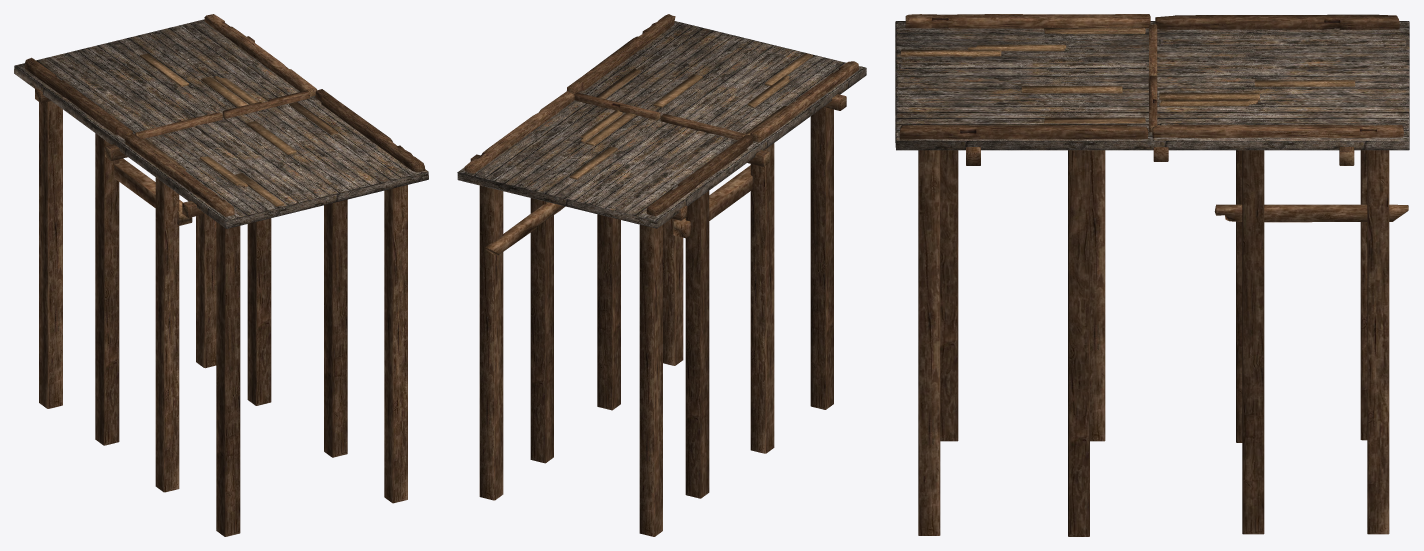
File: o_mdl_env_buildingDockWoodStraightA_c-transformed.glb
3 renders of one model, left to right at view 1: azimuth 30°, elevation 25°; view 2: azimuth 150°, elevation 25°; view 3: azimuth 270°, elevation 25°, orthographic. The views are drawn at different scales.
Visible parts, largest first — view 1: default; view 2: default; view 3: default.
Boxes of the visible parts, <box> form: default: <box>14,14,428,536</box>; default: <box>457,14,866,536</box>; default: <box>895,14,1409,536</box>.
Bounding box in the file's own units: 6.02 × 8.83 × 10.
2 materials, 2 textured.
